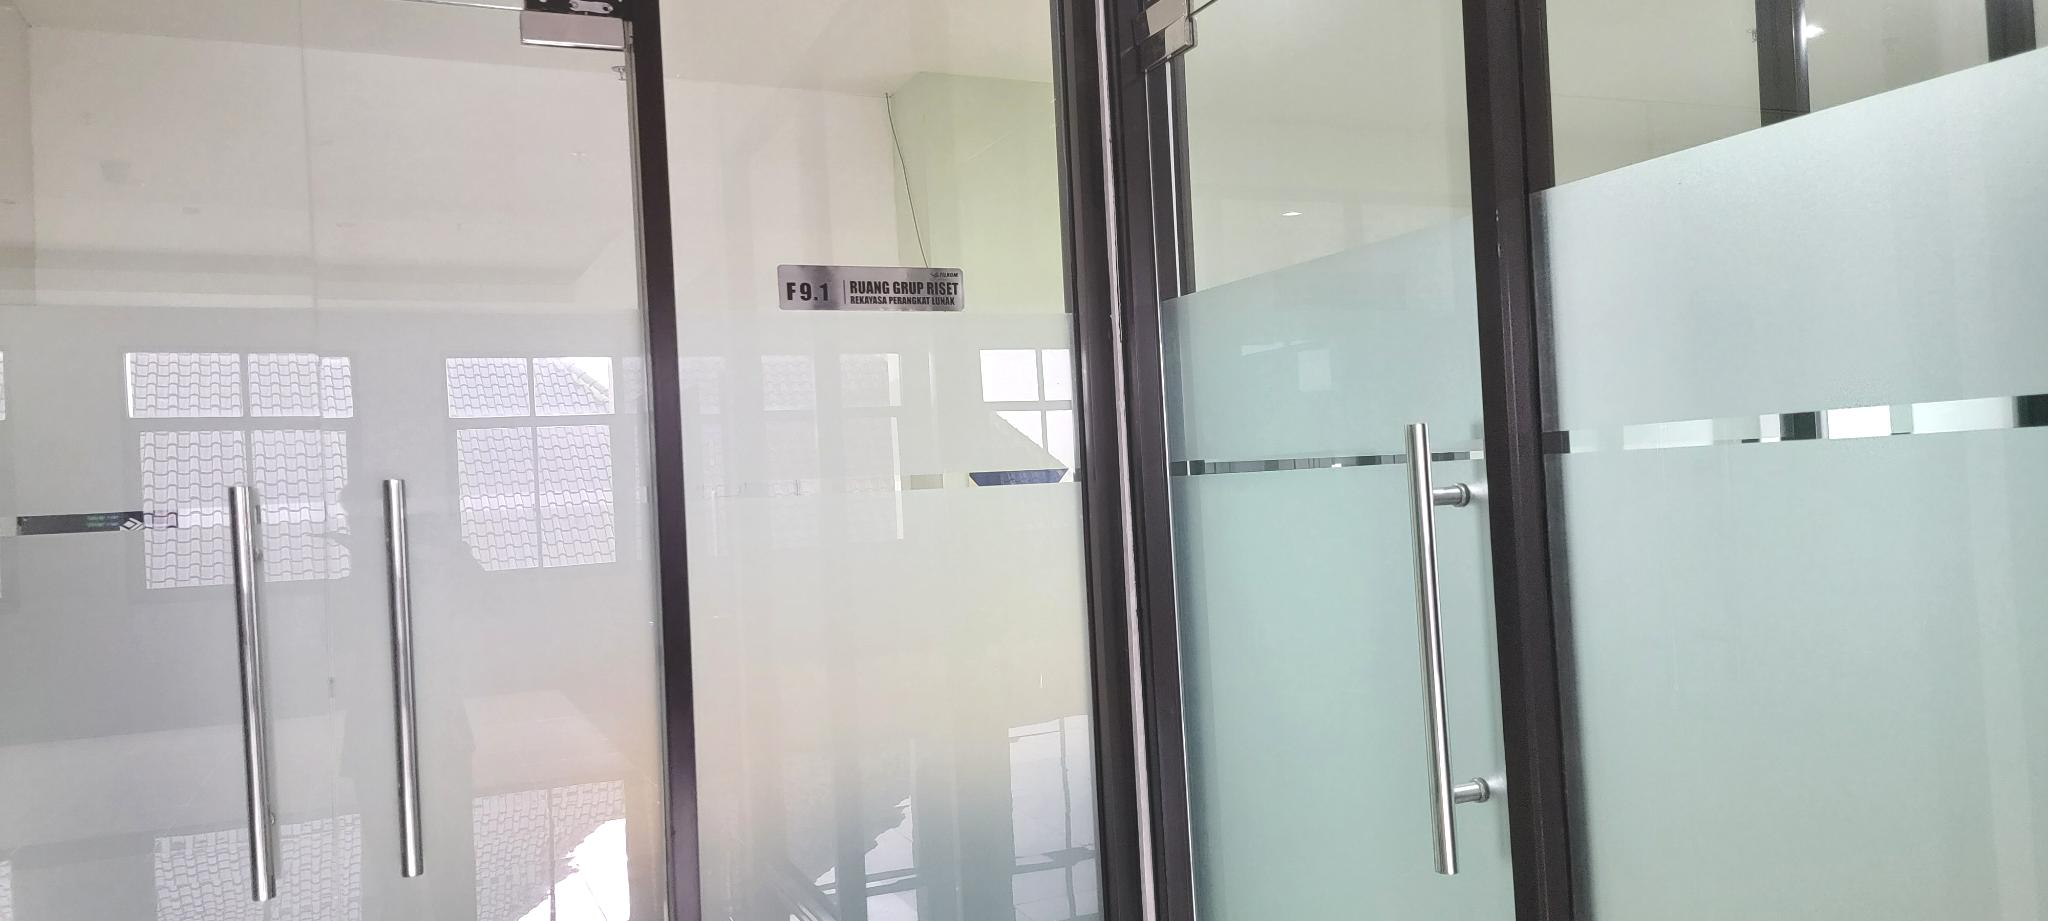plate: (777, 263, 965, 312)
